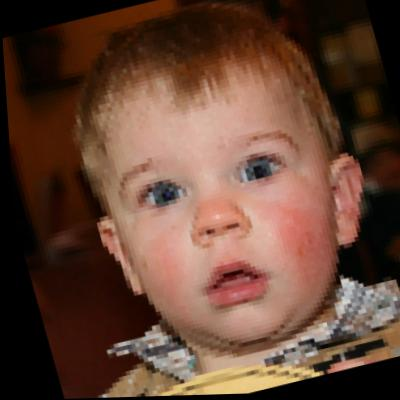surprise: (72, 41, 363, 353)
